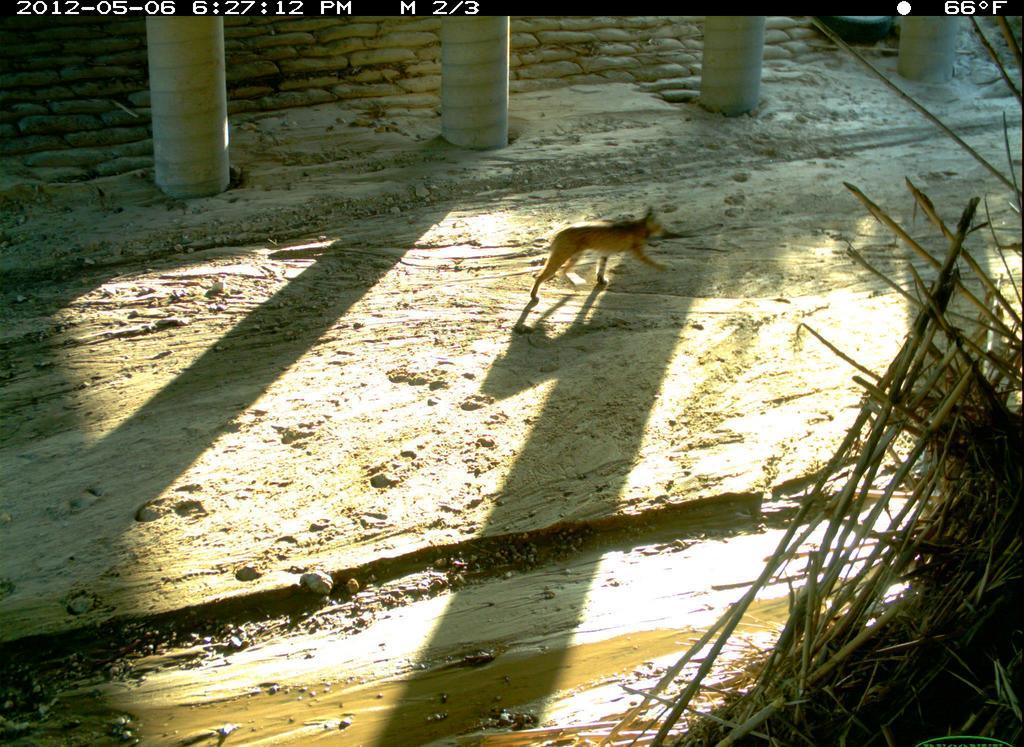bobcat: (528, 200, 679, 312)
